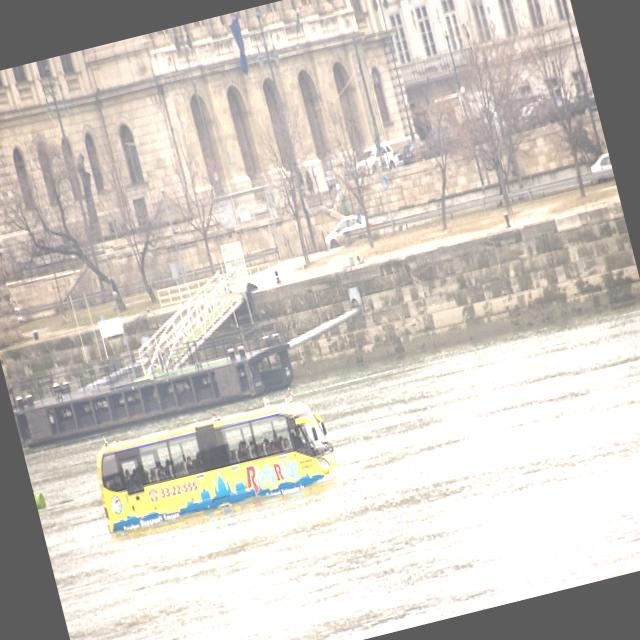Vehicle: (90, 391, 345, 539), (321, 207, 380, 249), (350, 136, 402, 183), (542, 92, 583, 123), (586, 150, 614, 182), (398, 140, 424, 164), (322, 159, 339, 190), (422, 128, 442, 150)
